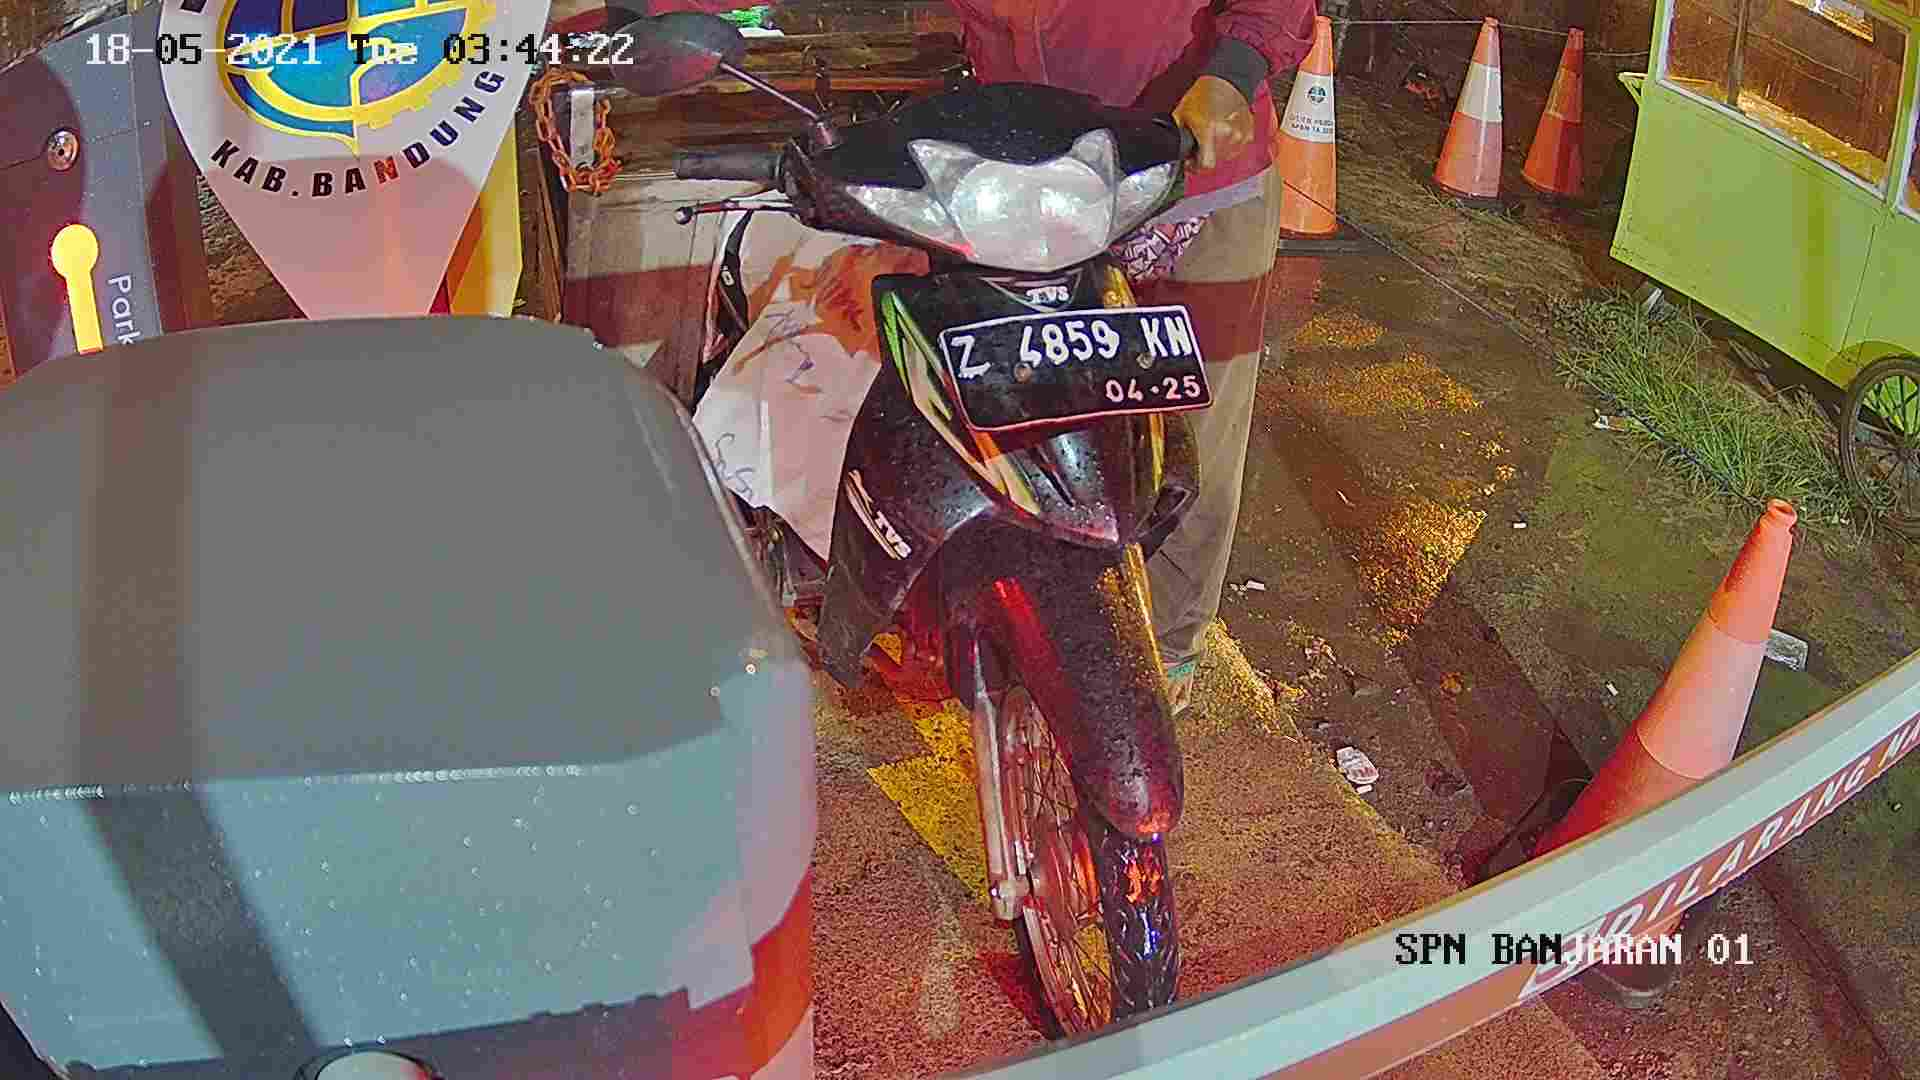motor: (640, 115, 1309, 1044)
